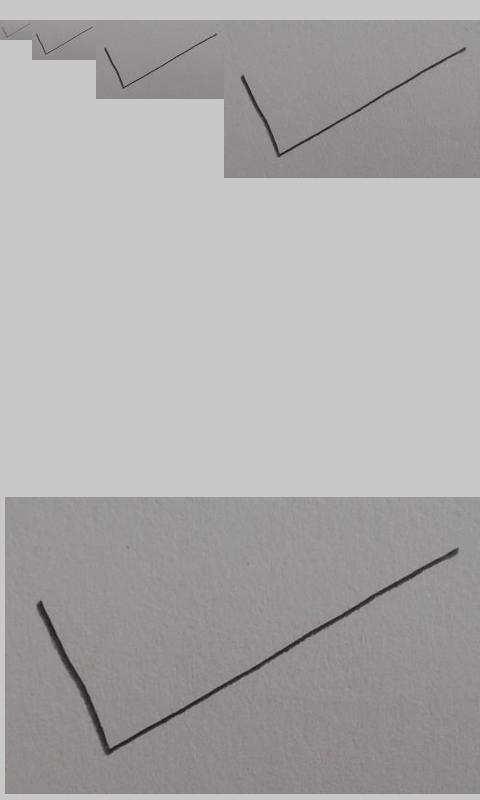check_box: (36, 548, 452, 755), (240, 47, 466, 158), (104, 33, 216, 89), (36, 26, 93, 55), (1, 23, 30, 38)
